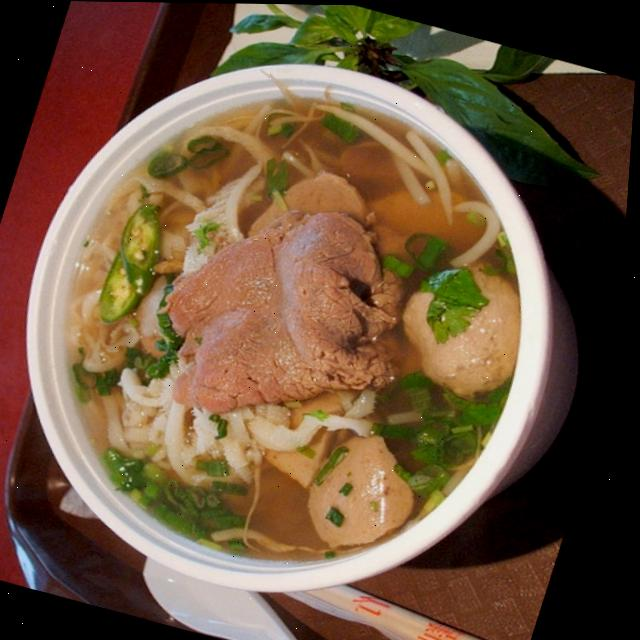面条主食: (0, 21, 613, 629)
